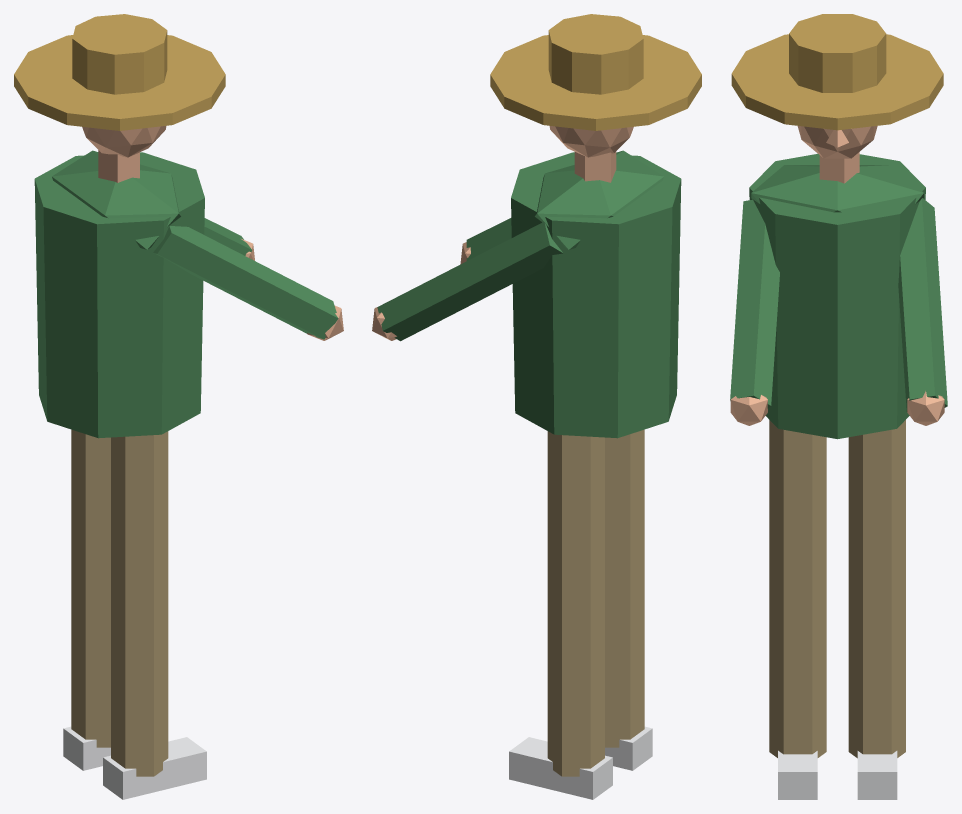
The model's file is promenerare.glb.
3 views of the same model, side by side, from view 1: azimuth 30°, elevation 25°; view 2: azimuth 150°, elevation 25°; view 3: azimuth 270°, elevation 25° (orthographic).
Visible parts, largest first — view 1: promenerare; view 2: promenerare; view 3: promenerare.
Part boxes in pixels (box(x1,y1,x2,y2)): promenerare: box(14, 14, 343, 799); promenerare: box(372, 14, 701, 799); promenerare: box(730, 14, 947, 799).
Size of the model in its own units: 0.6926 by 1.81 by 0.4846.
